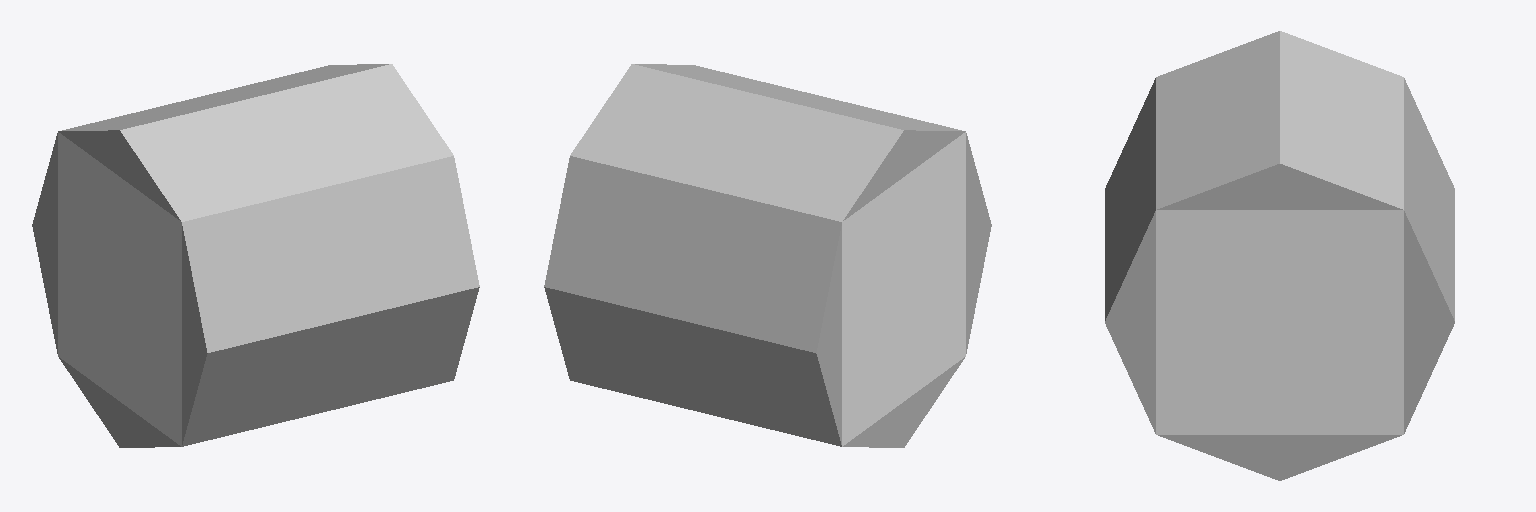
The model's file is WheelRearL.obj.
3 renders of one model, left to right at view 1: azimuth 30°, elevation 25°; view 2: azimuth 150°, elevation 25°; view 3: azimuth 270°, elevation 25°, orthographic.
Visible parts, largest first — view 1: WheelRearL; view 2: WheelRearL; view 3: WheelRearL.
Part boxes in pixels (bbox=[...]): WheelRearL: bbox=[32, 64, 479, 447]; WheelRearL: bbox=[544, 64, 991, 447]; WheelRearL: bbox=[1105, 31, 1454, 480].
Size of the model in its own units: 1.01 by 1.13 by 1.13.